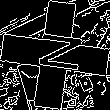N_W: (27, 31, 83, 79)
